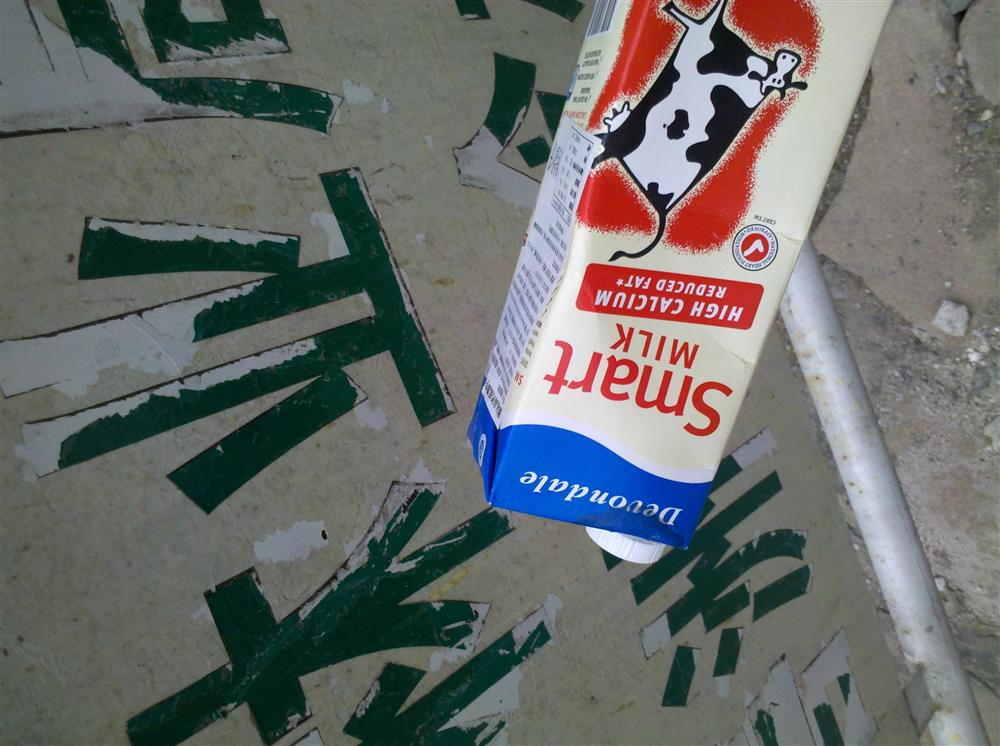Smart_Milk: (464, 4, 897, 562)
